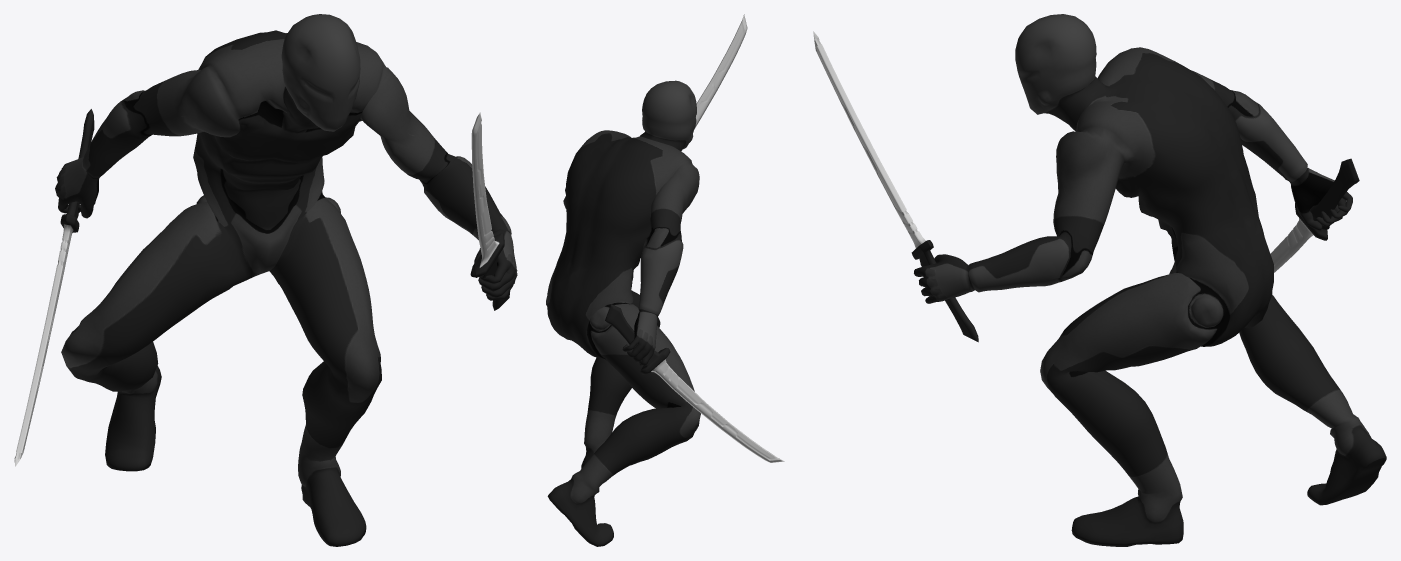
3 views of the same model, side by side, from view 1: azimuth 30°, elevation 25°; view 2: azimuth 150°, elevation 25°; view 3: azimuth 270°, elevation 25° (orthographic). The views are drawn at different scales.
Visible parts, largest first — view 1: Cyborg_Ninja_Killer, Sword_l001, Sword_l; view 2: Cyborg_Ninja_Killer, Sword_l001, Sword_l; view 3: Cyborg_Ninja_Killer, Sword_l, Sword_l001.
Part boxes in pixels (left/top/right/bottom): Cyborg_Ninja_Killer: left=55, top=14, right=517, bottom=546; Sword_l001: left=14, top=109, right=94, bottom=466; Sword_l: left=471, top=112, right=510, bottom=310; Cyborg_Ninja_Killer: left=546, top=80, right=700, bottom=546; Sword_l001: left=605, top=304, right=784, bottom=462; Sword_l: left=695, top=14, right=747, bottom=127; Cyborg_Ninja_Killer: left=914, top=14, right=1386, bottom=546; Sword_l: left=813, top=31, right=978, bottom=342; Sword_l001: left=1270, top=158, right=1359, bottom=272.
Bounding box in the file's own units: 105 × 141 × 145.
Materials: 2 (2 with a texture image).
